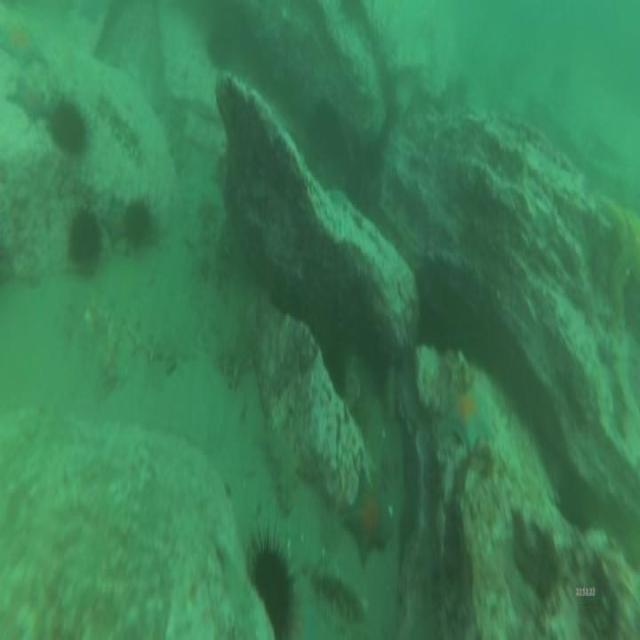echinus: (241, 528, 299, 640), (44, 95, 92, 158), (65, 202, 105, 275), (306, 98, 348, 167), (121, 191, 154, 256), (204, 16, 238, 72)
holothurian: (311, 556, 374, 632), (116, 297, 174, 370), (97, 85, 144, 166), (266, 424, 300, 516)
starfish: (343, 460, 394, 570), (442, 373, 499, 458), (5, 70, 52, 132), (0, 19, 50, 69)
